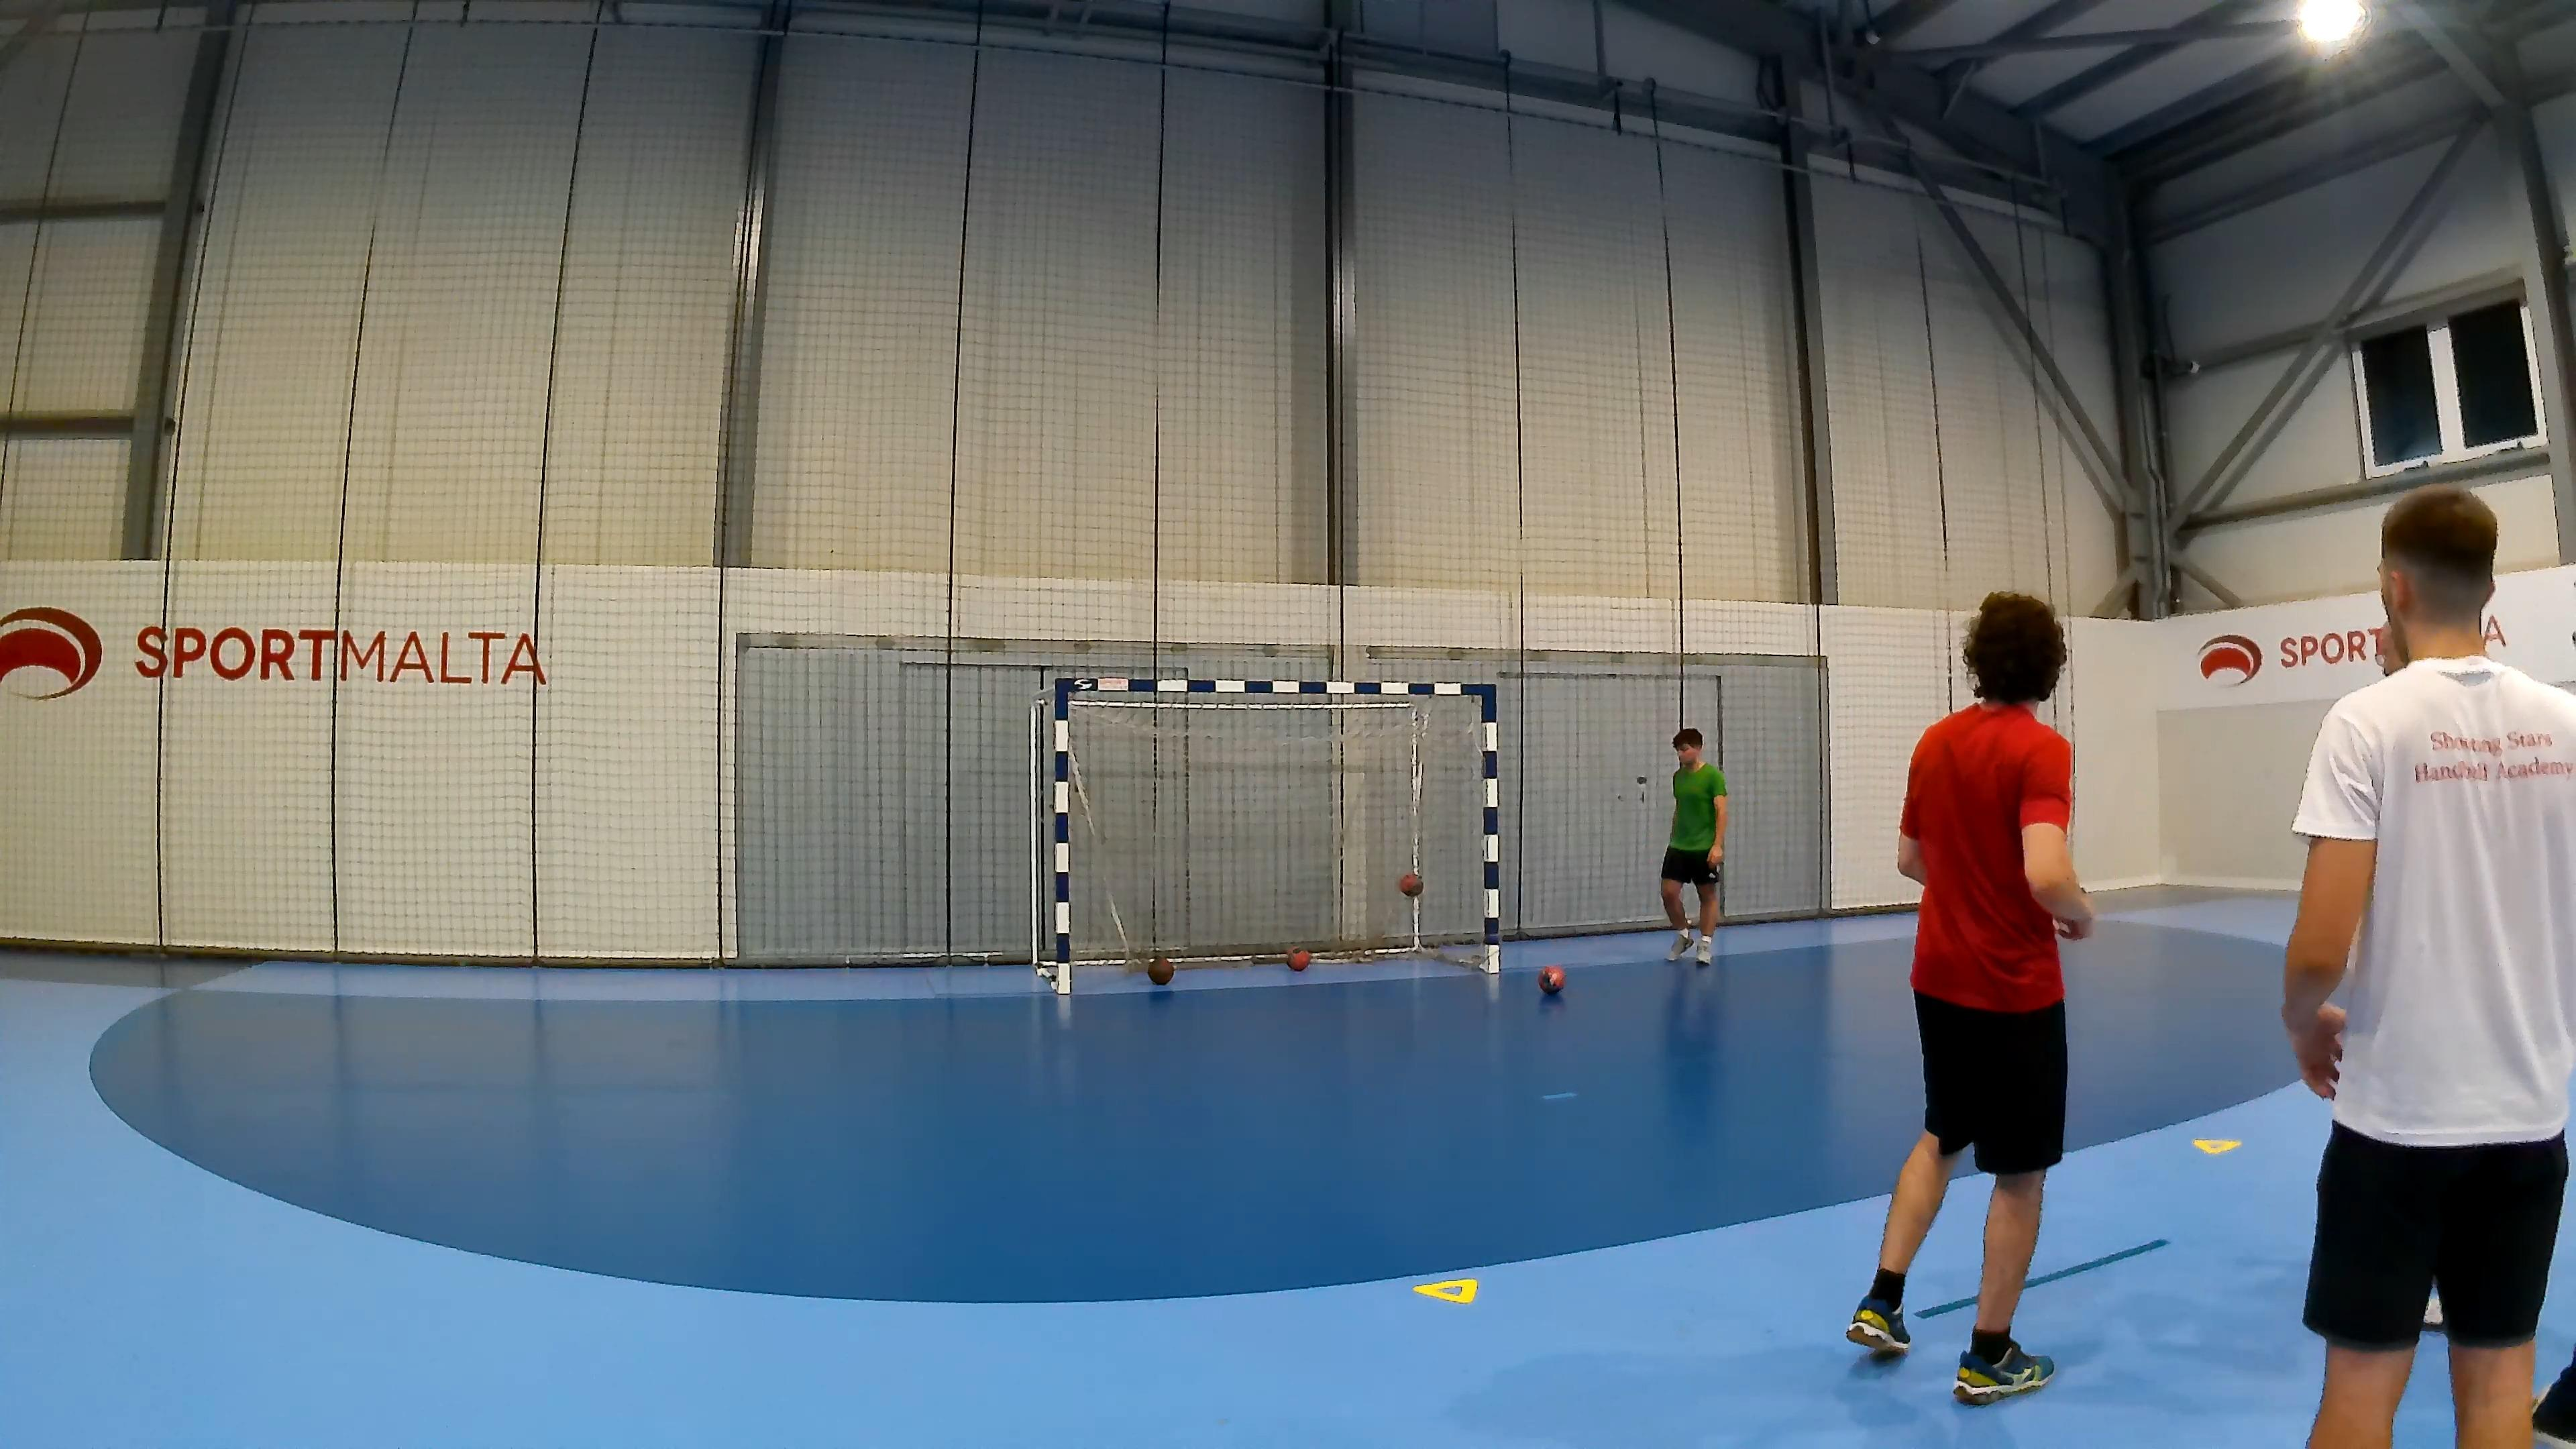handball: (1146, 954, 1173, 985), (1537, 964, 1564, 993), (1398, 867, 1422, 897), (1284, 947, 1309, 971)
